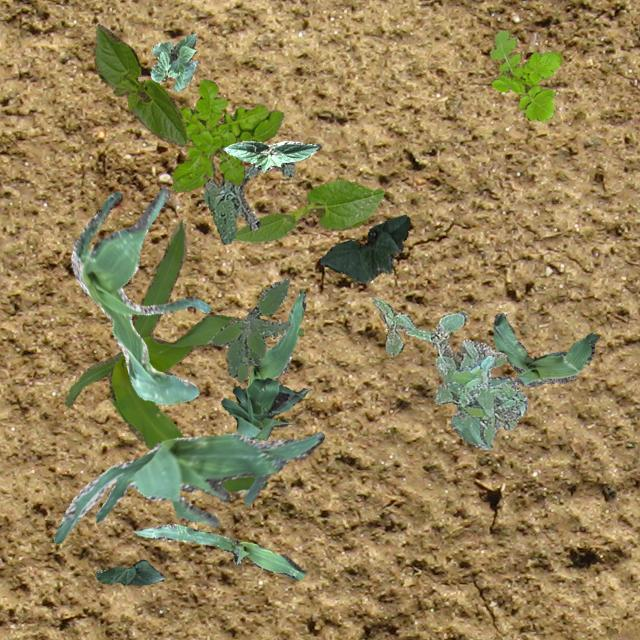crop: (64, 220, 304, 493), (70, 186, 210, 404), (52, 430, 324, 542), (92, 22, 186, 146), (133, 522, 304, 580), (232, 178, 382, 242), (247, 288, 304, 441), (492, 312, 596, 386), (318, 214, 408, 282), (220, 376, 310, 438), (446, 376, 516, 450), (222, 140, 320, 172), (150, 33, 198, 90), (94, 558, 162, 584)
weed: (373, 298, 505, 407), (170, 78, 282, 190), (210, 276, 290, 381), (202, 160, 294, 242), (449, 353, 526, 442), (488, 29, 560, 120)
